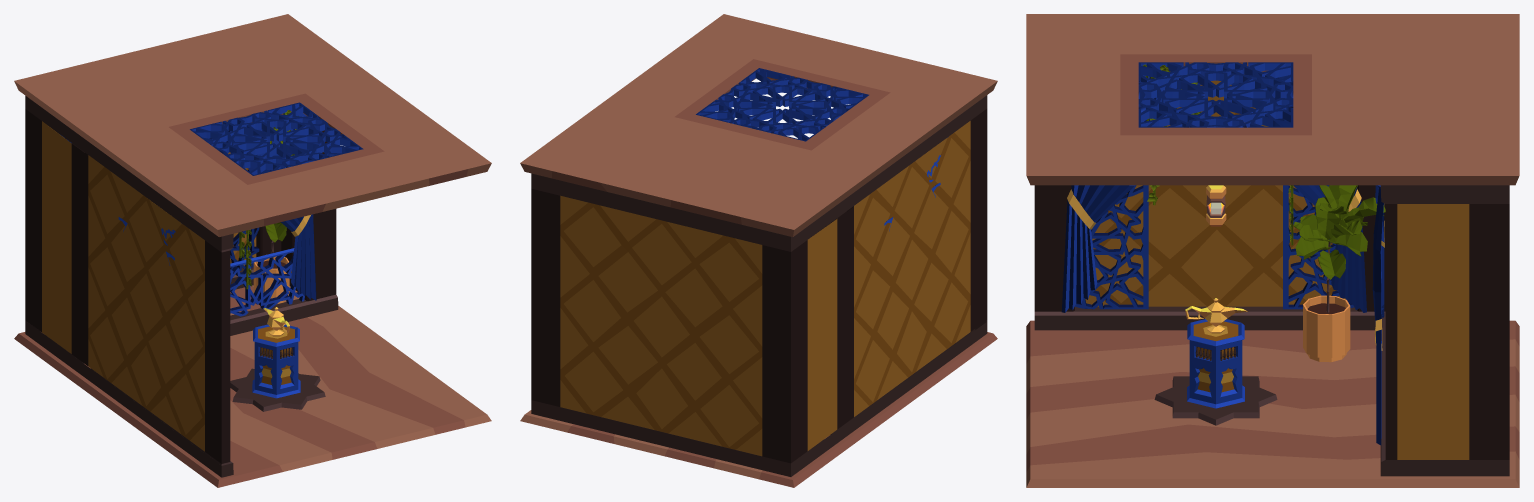
Rendered from LampRoom.fbx.
3 views of the same model, side by side, from view 1: azimuth 30°, elevation 25°; view 2: azimuth 150°, elevation 25°; view 3: azimuth 270°, elevation 25° (orthographic). The views are drawn at different scales.
Parts seen in each view (by area): view 1: Room; view 2: Room; view 3: Room.
Boxes of the visible parts, box(x1,y1,x2,y2) form: Room: box(14, 14, 491, 487); Room: box(520, 14, 997, 487); Room: box(1026, 14, 1519, 487).
Size of the model in its own units: 428 by 385 by 551.
